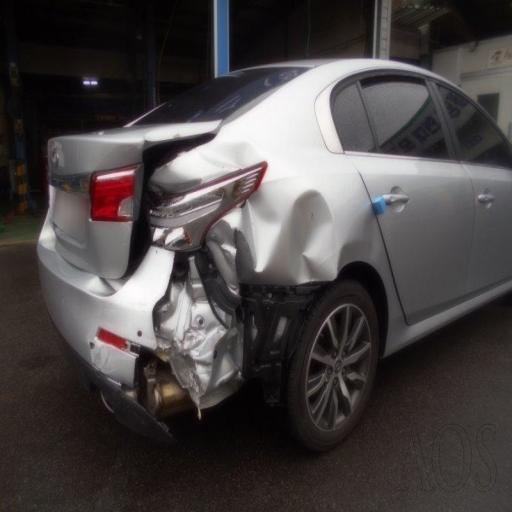broken: (106, 126, 242, 413)
dent: (258, 151, 354, 298)
